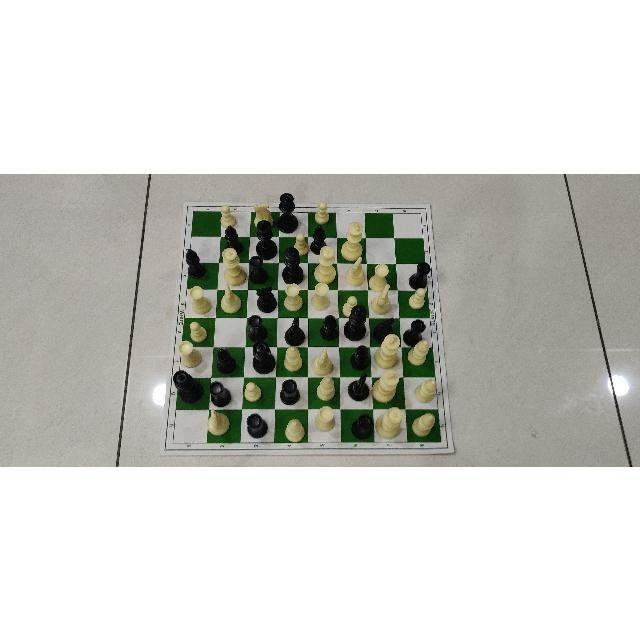black-bishop: (185, 247, 207, 279), (223, 223, 244, 254), (215, 346, 237, 374), (309, 224, 328, 254), (348, 343, 369, 370), (319, 313, 339, 341)
black-king: (254, 218, 278, 259), (342, 303, 367, 340), (281, 245, 304, 284)
black-knight: (283, 315, 306, 347), (347, 371, 371, 401), (372, 315, 396, 343), (255, 285, 278, 313)
black-queen: (171, 368, 204, 403), (276, 191, 299, 233), (251, 338, 277, 374)
black-rook: (407, 260, 431, 290), (401, 318, 426, 346), (246, 313, 269, 343), (248, 253, 270, 284), (208, 379, 232, 407), (350, 412, 373, 440), (279, 377, 301, 405), (246, 411, 268, 439)
white-bishop: (411, 412, 437, 438), (405, 338, 430, 365), (413, 377, 438, 402), (315, 375, 337, 401), (282, 344, 303, 371), (284, 416, 306, 441)
white-king: (373, 331, 401, 368), (371, 368, 401, 402), (340, 221, 363, 261)
white-knight: (369, 283, 392, 315), (219, 282, 242, 314), (344, 254, 366, 286), (206, 408, 231, 436), (310, 346, 334, 375), (253, 201, 275, 229)
white-pawn: (219, 203, 237, 228), (407, 286, 426, 309), (243, 380, 262, 402), (188, 320, 207, 342), (314, 199, 330, 224), (293, 231, 309, 255), (341, 295, 358, 317)
white-queen: (220, 246, 247, 286), (374, 405, 403, 439), (313, 245, 337, 283)
white-rook: (176, 338, 203, 367), (187, 283, 212, 314), (367, 262, 390, 292), (282, 280, 304, 311), (313, 403, 336, 432), (309, 281, 330, 311)
